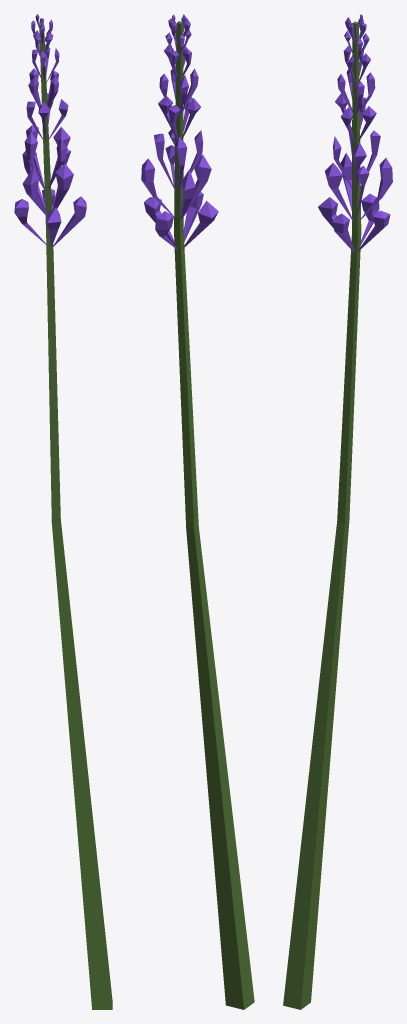
Rendered from Flower 1_1.fbx.
3 renders of one model, left to right at view 1: azimuth 90°, elevation 25°; view 2: azimuth 150°, elevation 25°; view 3: azimuth 330°, elevation 25°, orthographic. The views are drawn at different scales.
Parts seen in each view (by area): view 1: Flower 1_1; view 2: Flower 1_1; view 3: Flower 1_1.
Boxes of the visible parts, box(x1,y1,x2,y2) form: Flower 1_1: box(14, 14, 112, 1009); Flower 1_1: box(141, 14, 254, 1009); Flower 1_1: box(283, 14, 392, 1009).
Bounding box in the file's own units: 0.0862 × 1.11 × 0.1009.
